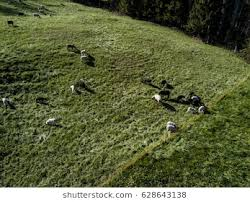sheep: (162, 123, 179, 132), (42, 117, 56, 127), (63, 43, 77, 53), (1, 96, 11, 110), (187, 106, 197, 115), (6, 19, 16, 28), (151, 93, 160, 102), (72, 85, 80, 95), (198, 104, 205, 114), (80, 51, 87, 61), (19, 10, 26, 17), (194, 97, 200, 103)
